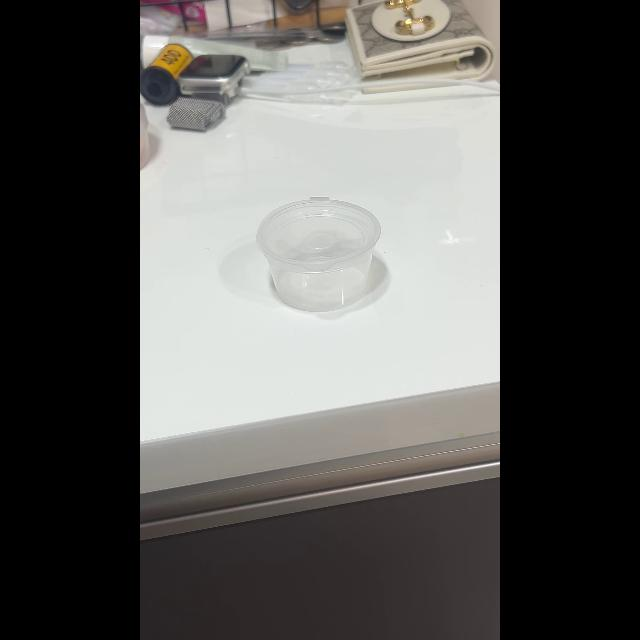clean: (255, 196, 382, 312)
